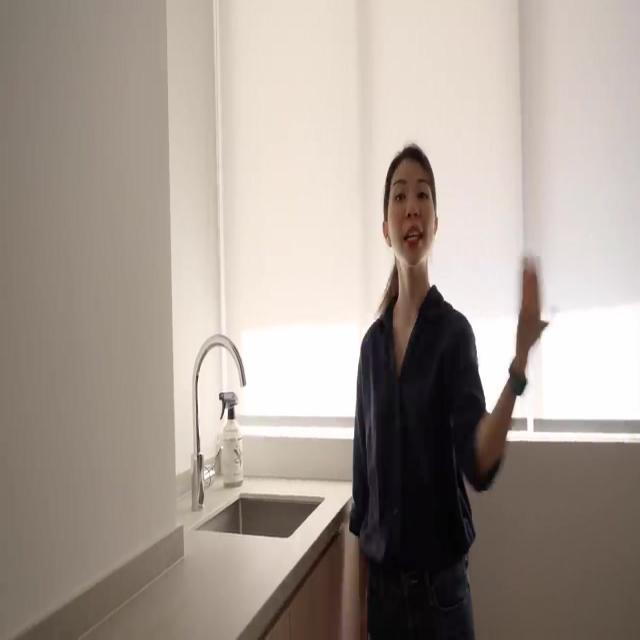person: (348, 142, 548, 639)
